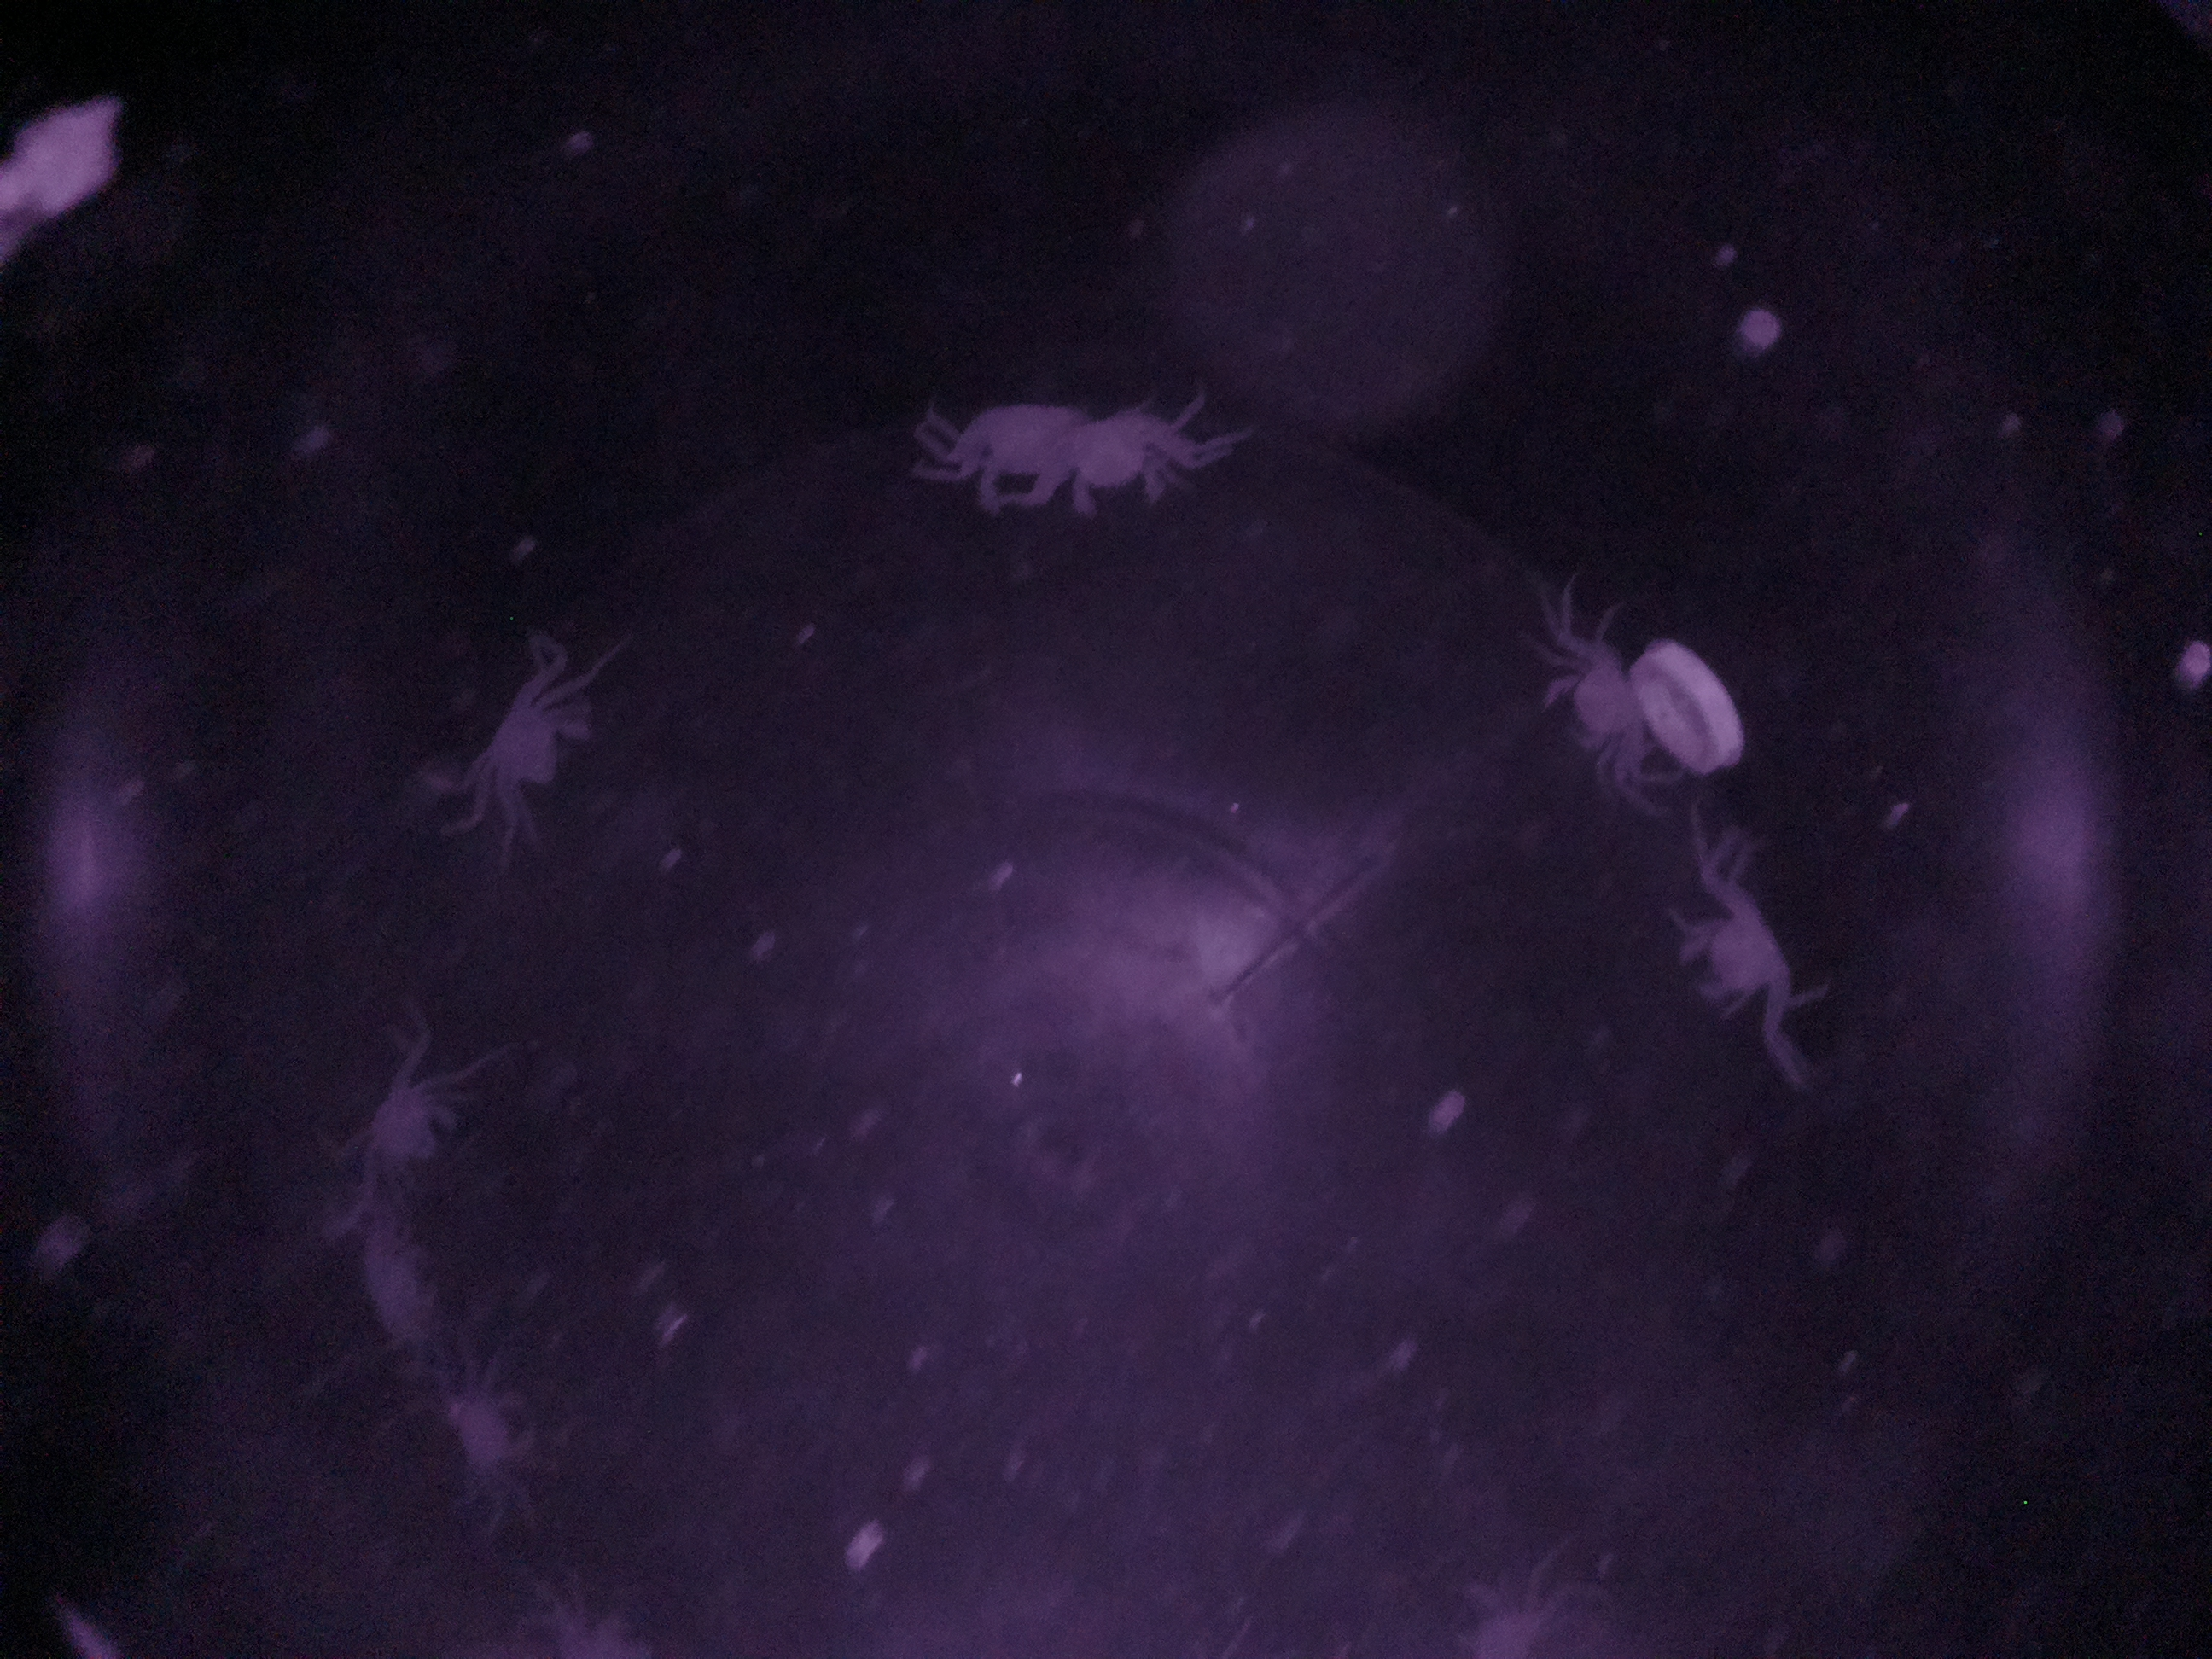Crab: (1656, 875, 1827, 1026), (1529, 613, 1669, 791), (462, 662, 608, 828)
